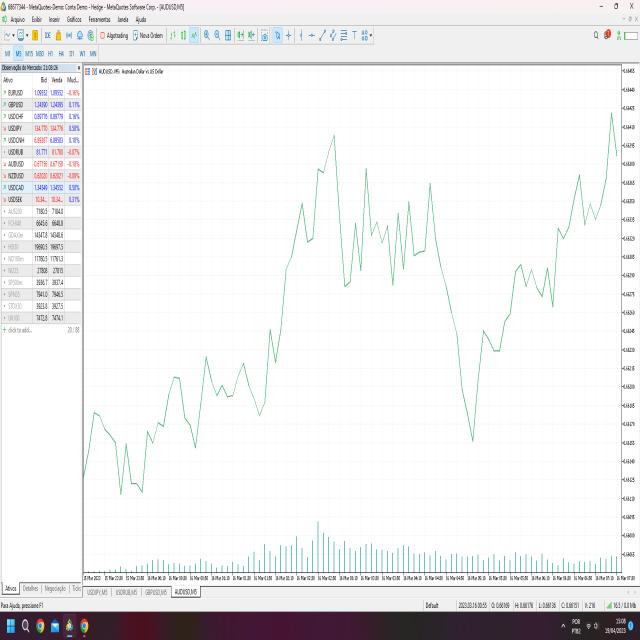bandeira_alta: (499, 244, 554, 371)
fundo_duplo: (108, 425, 148, 510)
